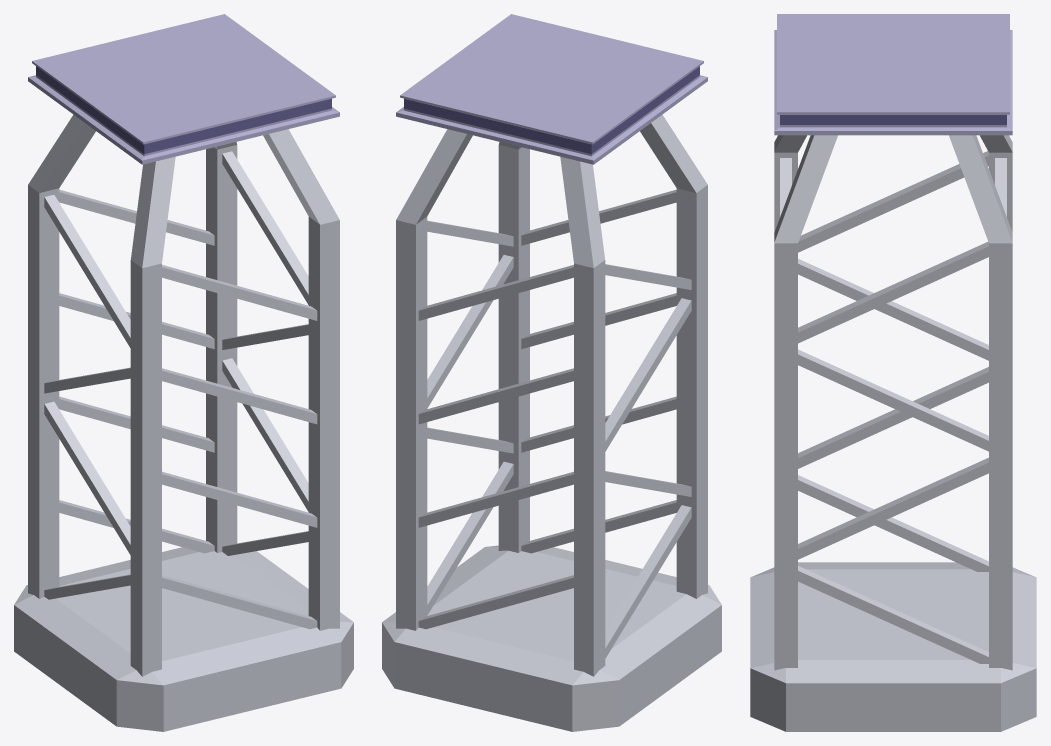
The model's file is Stelze1.fbx.
3 renders of one model, left to right at view 1: azimuth 30°, elevation 25°; view 2: azimuth 150°, elevation 25°; view 3: azimuth 270°, elevation 25°, orthographic. The views are drawn at different scales.
Visible parts, largest first — view 1: gear_full (×4), block_bevel, floor_corner (×4), gear_slant; view 2: gear_full (×4), block_bevel, floor_corner (×4), gear_slant; view 3: gear_full (×4), block_bevel, floor_corner (×4), gear_slant.
Boxes of the visible parts, x1,y1,x2,y2 form: gear_full (×4): (28, 145, 339, 676); block_bevel: (14, 547, 353, 731); floor_corner (×4): (28, 14, 339, 164); gear_slant: (28, 114, 339, 268); gear_full (×4): (396, 145, 707, 676); block_bevel: (382, 545, 721, 731); floor_corner (×4): (396, 14, 707, 164); gear_slant: (396, 114, 707, 268); gear_full (×4): (774, 151, 1012, 670); block_bevel: (750, 562, 1036, 731); floor_corner (×4): (774, 14, 1012, 135); gear_slant: (774, 135, 1012, 243).
Bounding box in the file's own units: 12 × 28.5 × 12.
